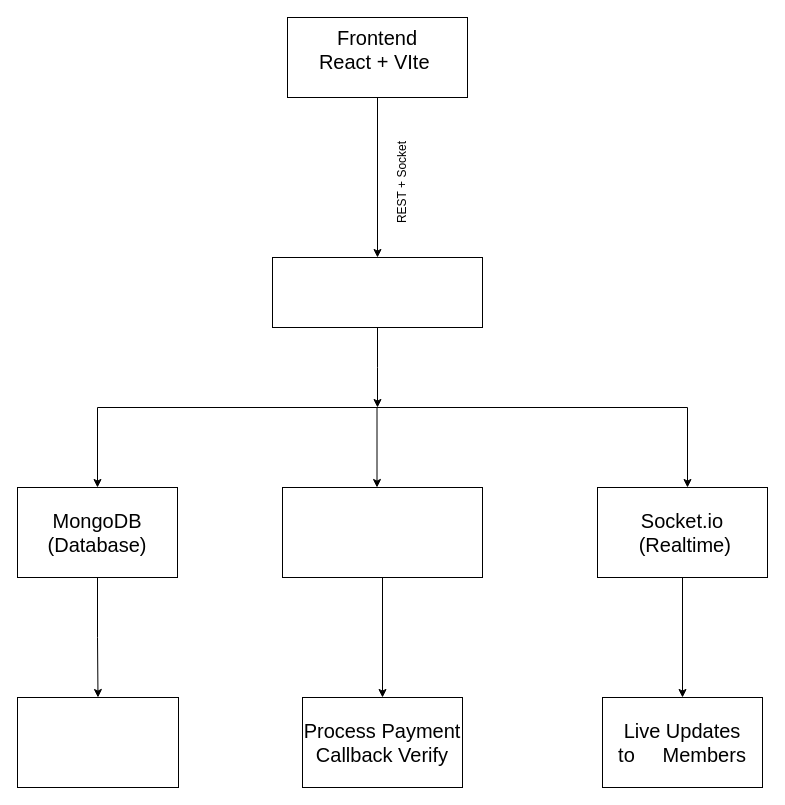
The diagram is 785 pixels wide and 805 high, and some of its shapes have lost their labels. The box of each missing label's shape, as (x1, y1, x2, y2) in pixels:
Backend(Express) Controllers: (272, 256, 482, 328)
Bills & Users Store Splits: (16, 696, 178, 788)
Payment Gateway (eSewa / Khalti): (282, 486, 482, 578)
